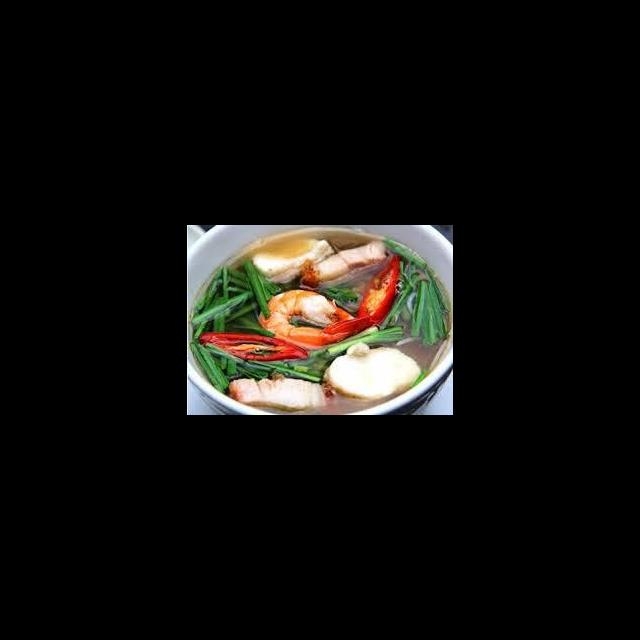ca: (321, 338, 425, 404)
thit heo quay: (297, 237, 392, 294), (226, 371, 331, 414)
tom: (255, 285, 373, 351)
